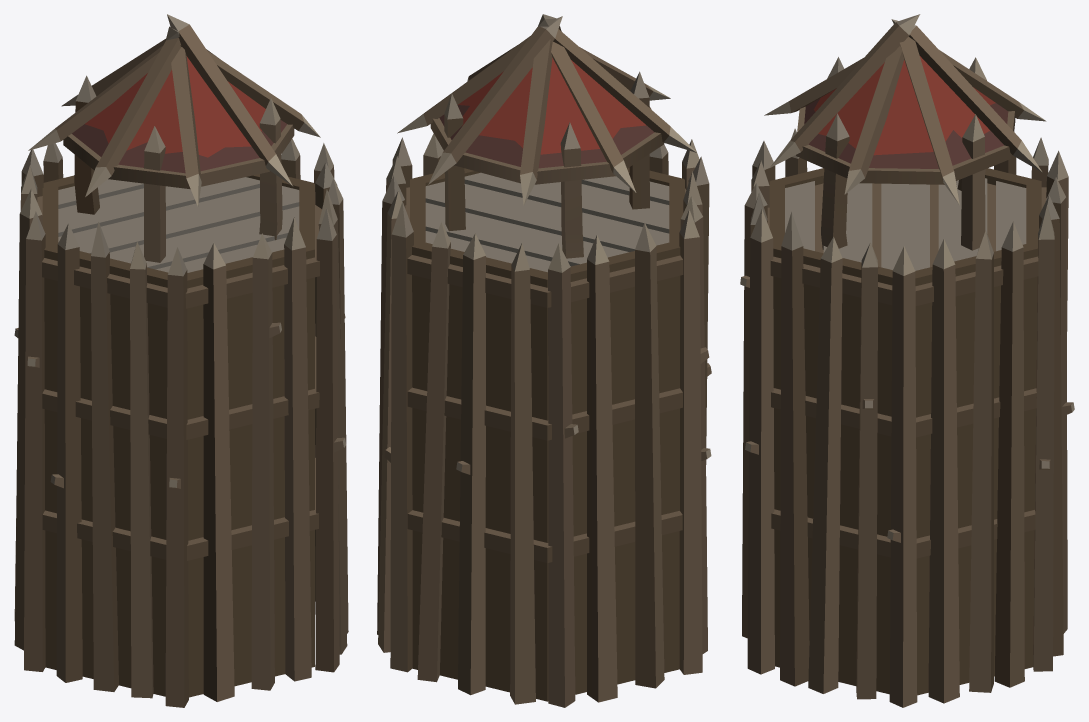
The model's file is SF_Bld_Goblin_House_05.fbx.
3 views of the same model, side by side, from view 1: azimuth 30°, elevation 25°; view 2: azimuth 150°, elevation 25°; view 3: azimuth 270°, elevation 25° (orthographic).
Visible parts, largest first — view 1: SF_Bld_Goblin_House_05; view 2: SF_Bld_Goblin_House_05; view 3: SF_Bld_Goblin_House_05.
Boxes of the visible parts, x1,y1,x2,y2 form: SF_Bld_Goblin_House_05: [14, 14, 348, 707]; SF_Bld_Goblin_House_05: [377, 14, 711, 707]; SF_Bld_Goblin_House_05: [740, 14, 1074, 707].
Size of the model in its own units: 13.99 by 26.21 by 12.91.
